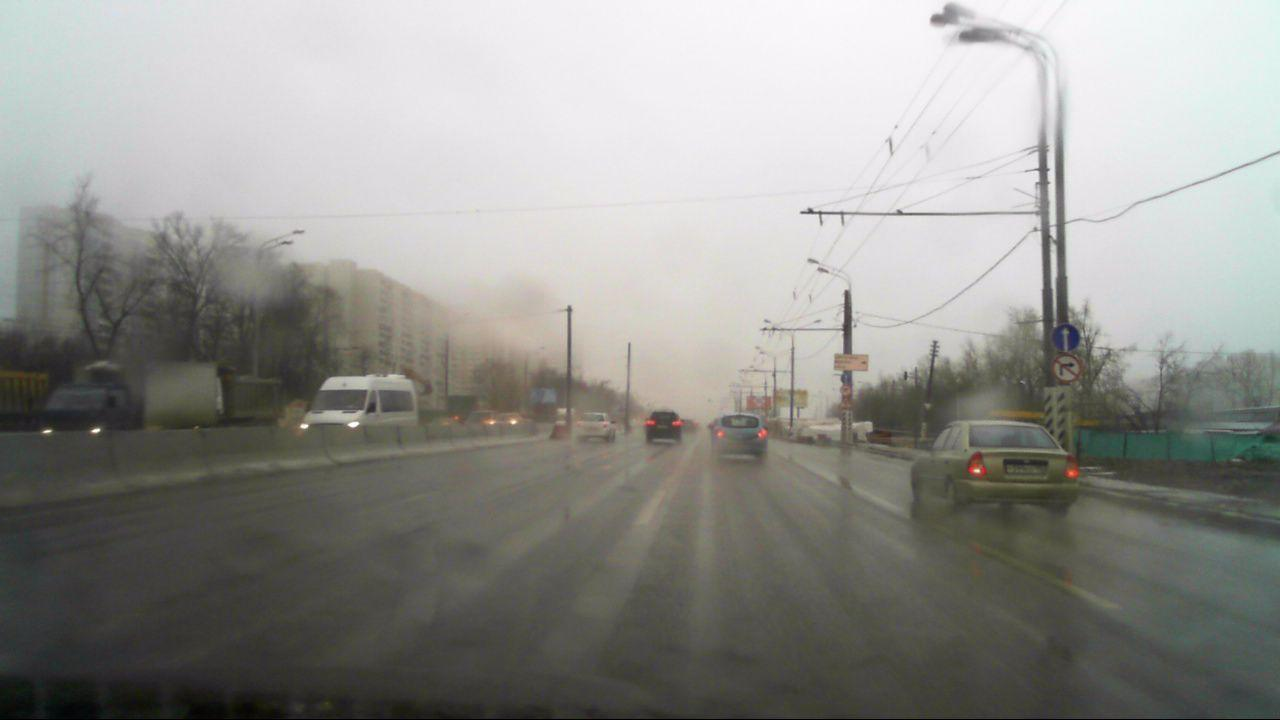1_25: (839, 399, 853, 409)
3_18_1: (1052, 354, 1082, 383), (840, 387, 852, 397)
4_1_1: (1050, 323, 1079, 351), (838, 371, 853, 385)
